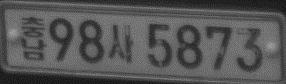3: (236, 27, 263, 72)
5: (146, 23, 172, 68)
7: (206, 25, 232, 70)
8: (77, 18, 105, 64), (175, 23, 203, 69)
9: (48, 16, 74, 61)
사: (107, 24, 135, 63)
충남_V: (19, 15, 46, 60)
